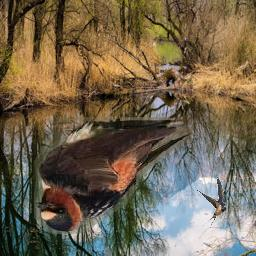Swallow: (34, 118, 192, 235), (194, 176, 226, 228)
